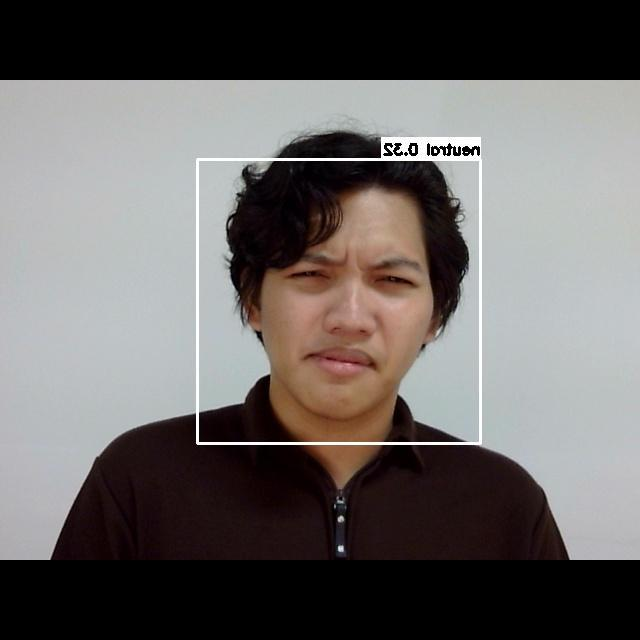Disgust: (262, 227, 442, 404)
